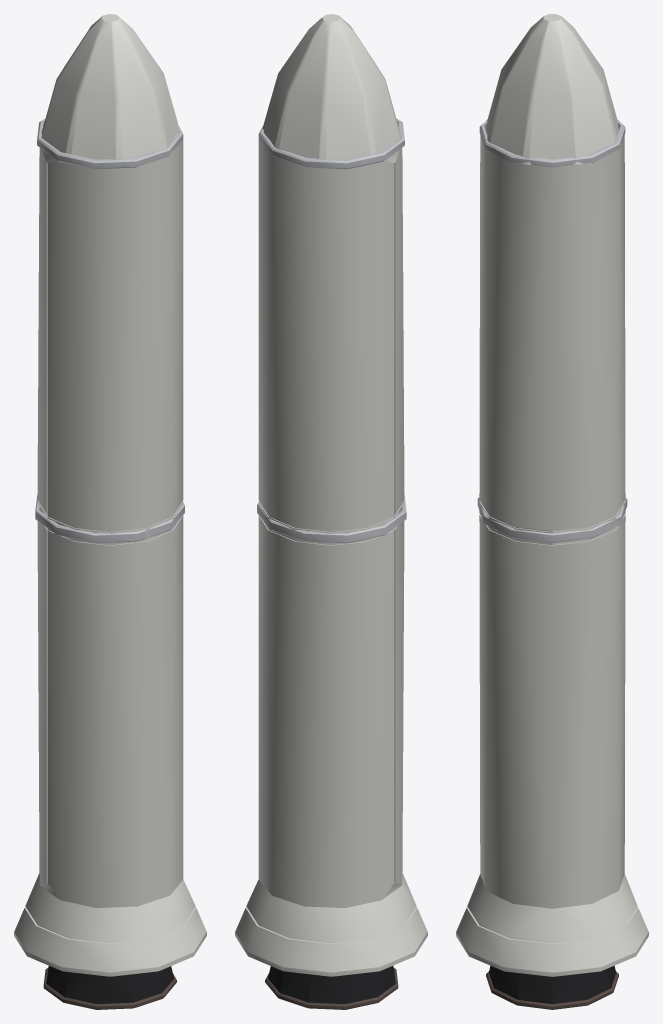
Rendered from ax_prop_13_segmented_srb_s.glb.
3 renders of one model, left to right at view 1: azimuth 30°, elevation 25°; view 2: azimuth 150°, elevation 25°; view 3: azimuth 270°, elevation 25°, orthographic.
Parts seen in each view (by area): view 1: motor_case, nose_cap, aft_skirt, nozzle, forward_ring, field_joints, nozzle_lip; view 2: motor_case, nose_cap, aft_skirt, nozzle, forward_ring, field_joints, nozzle_lip; view 3: motor_case, nose_cap, aft_skirt, nozzle, field_joints, forward_ring, nozzle_lip.
Boxes of the visible parts, box(x1,y1,x2,y2) form: motor_case: box(37, 140, 183, 907); nose_cap: box(41, 14, 179, 159); aft_skirt: box(14, 873, 206, 976); nozzle: box(46, 966, 173, 1003); forward_ring: box(37, 118, 183, 169); field_joints: box(35, 494, 184, 543); nozzle_lip: box(43, 968, 176, 1009); motor_case: box(258, 140, 404, 907); nose_cap: box(262, 14, 400, 159); aft_skirt: box(235, 873, 427, 976); nozzle: box(268, 966, 395, 1003); forward_ring: box(258, 118, 404, 169); field_joints: box(257, 494, 406, 543); nozzle_lip: box(265, 968, 398, 1009); motor_case: box(479, 135, 625, 908); nose_cap: box(485, 14, 619, 164); aft_skirt: box(456, 874, 648, 976); nozzle: box(488, 965, 616, 1003); field_joints: box(477, 497, 627, 542); forward_ring: box(479, 119, 625, 167); nozzle_lip: box(486, 971, 618, 1009).
Bounding box in the file's own units: 1.65 × 9.11 × 1.65.
4 materials, 2 textured.
